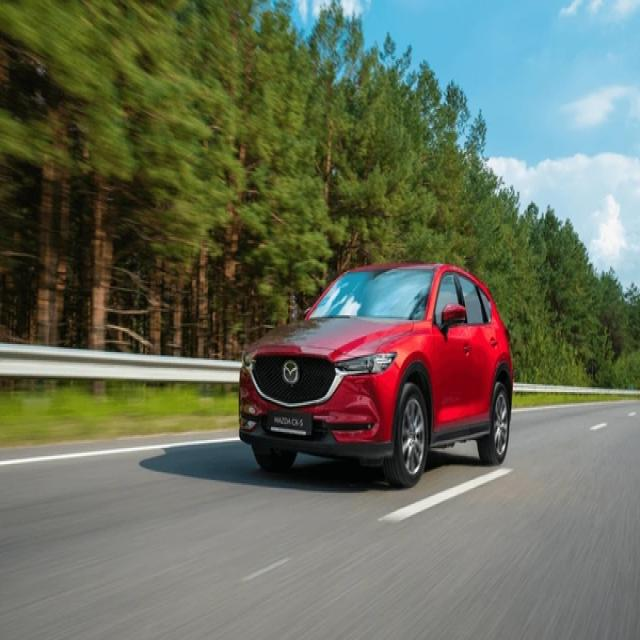mazda: (284, 359, 300, 384)
